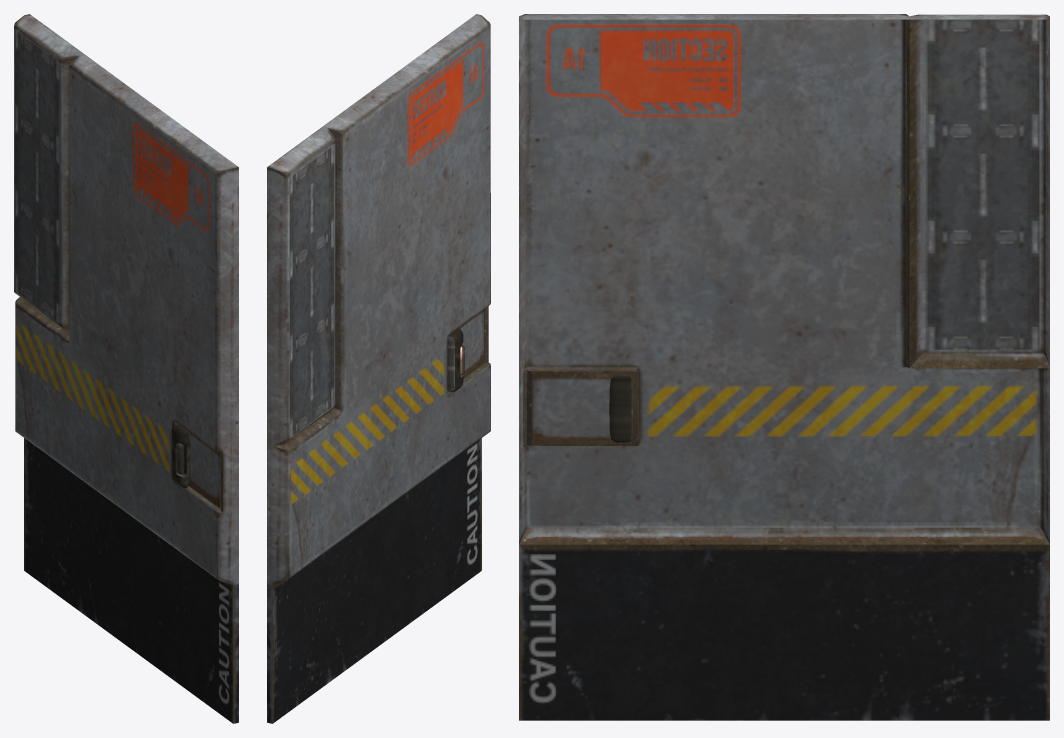
The model's file is SM_Doors_LP_pCube135.fbx.
The picture shows the model from 3 angles, left to right: view 1: azimuth 30°, elevation 25°; view 2: azimuth 150°, elevation 25°; view 3: azimuth 270°, elevation 25°; orthographic projection. The views are drawn at different scales.
Parts seen in each view (by area): view 1: SM_Doors_LP_pCube135_LOD0; view 2: SM_Doors_LP_pCube135_LOD0; view 3: SM_Doors_LP_pCube135_LOD0.
Boxes of the visible parts, bbox=[...] form: SM_Doors_LP_pCube135_LOD0: bbox=[14, 14, 238, 723]; SM_Doors_LP_pCube135_LOD0: bbox=[267, 14, 490, 723]; SM_Doors_LP_pCube135_LOD0: bbox=[519, 14, 1049, 720].
Size of the model in its own units: 10.45 by 154 by 225.
2 materials, 2 textured.
